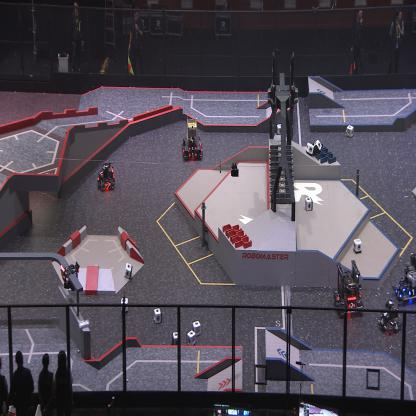car: (333, 261, 365, 315), (392, 250, 416, 306), (180, 115, 205, 161), (378, 298, 401, 333), (94, 158, 116, 192)
